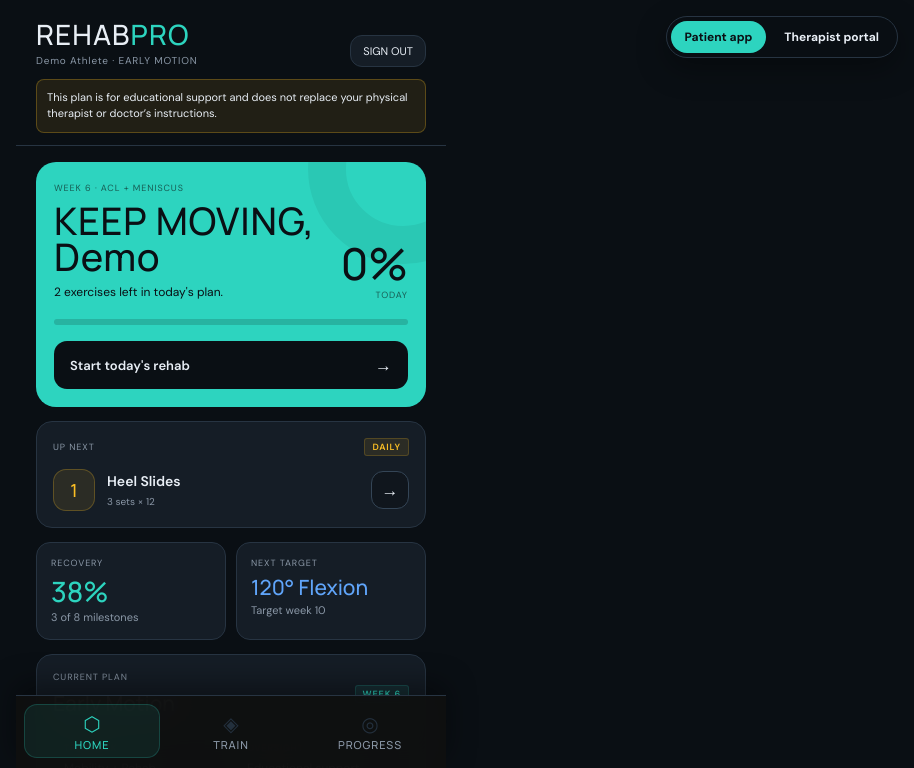
Test: App Supabase patient MVP flow › renders today’s exercises from Supabase-shaped plan data
Click the button "◈ TRAIN". click: (231, 731)
box: [163,704,299,758]
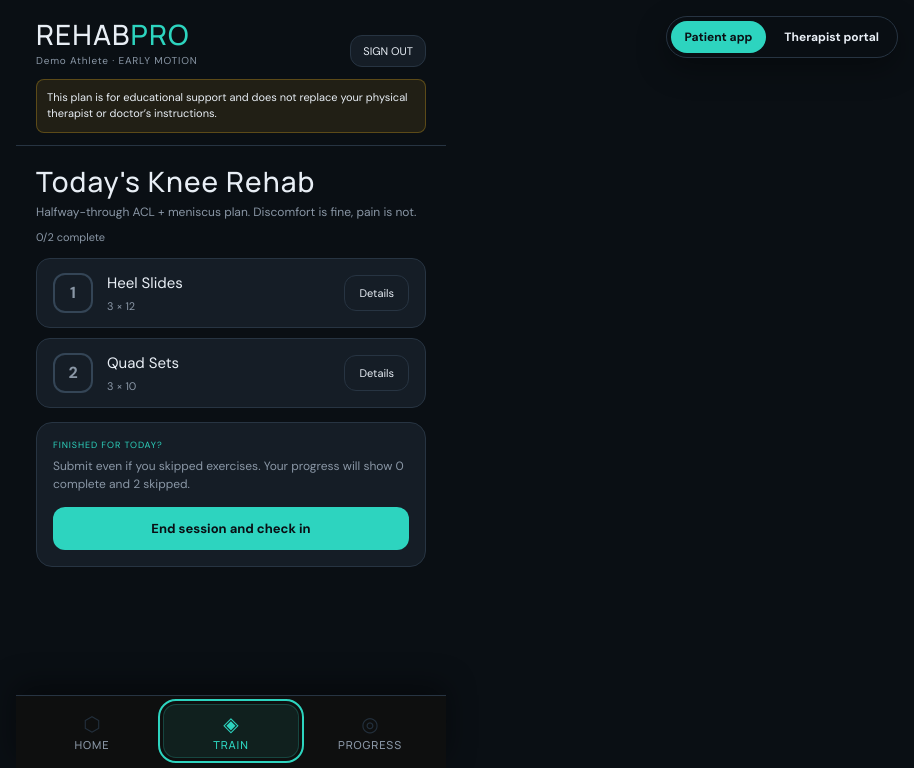
Expected: the text "Heel Slides" is shown, [107,273,183,293]
Now the text "Quad Sets" is shown, box [107,353,179,373]
Now the text "0/2 complete" is shown, box [36,230,105,244]
